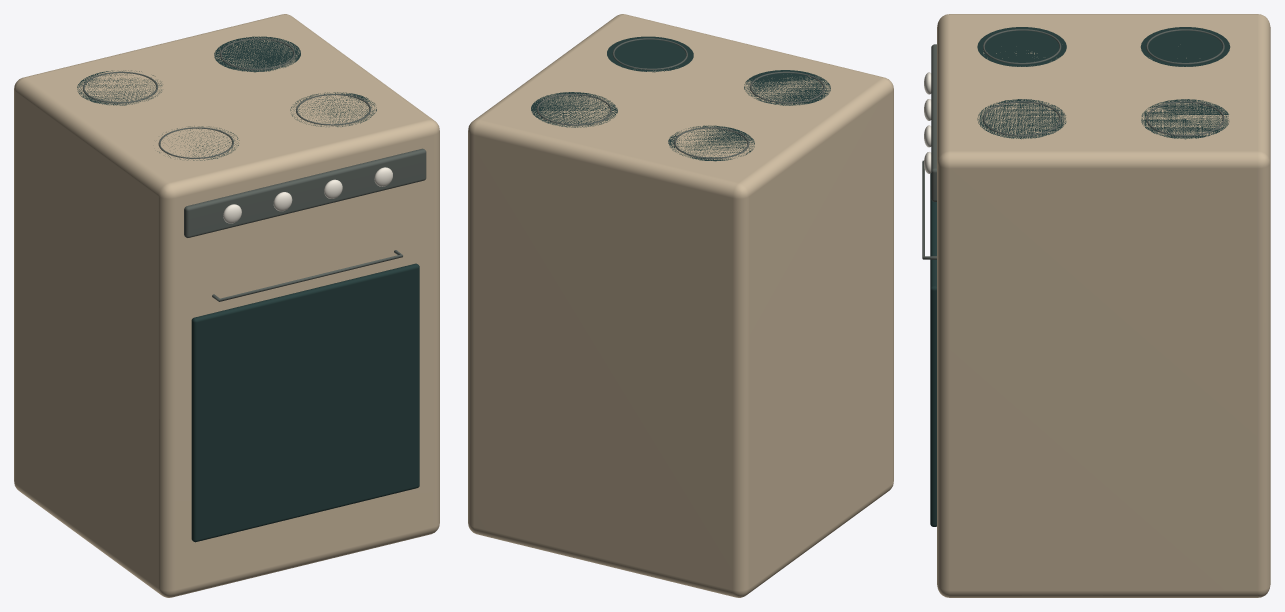
3 renders of one model, left to right at view 1: azimuth 30°, elevation 25°; view 2: azimuth 150°, elevation 25°; view 3: azimuth 270°, elevation 25°, orthographic. The views are drawn at different scales.
Parts seen in each view (by area): view 1: body, oven_glass, control, hob_1_-1, hob_-1_-1, hob_1_1, oven_handle; view 2: body, hob_1_1, hob_-1_1, hob_1_-1, hob_-1_-1; view 3: body, hob_-1_-1, hob_-1_1, hob_1_1, hob_1_-1, oven_glass, control.
Boxes of the visible parts, x1,y1,x2,y2 form: body: (14,14,439,597); oven_glass: (191,263,419,542); control: (184,148,426,237); hob_1_-1: (214,36,300,72); hob_-1_-1: (77,70,162,105); hob_1_1: (290,92,376,126); oven_handle: (212,250,402,301); body: (468,14,893,597); hob_1_1: (607,36,693,72); hob_-1_1: (744,70,830,105); hob_1_-1: (531,92,617,127); hob_-1_-1: (668,125,754,161); body: (937,14,1270,597); hob_-1_-1: (1140,27,1230,66); hob_-1_1: (977,27,1066,66); hob_1_1: (977,99,1066,139); hob_1_-1: (1141,99,1229,139); oven_glass: (930,173,936,526); control: (931,44,936,201).
Size of the model in its own units: 0.6 by 0.85 by 0.6.
